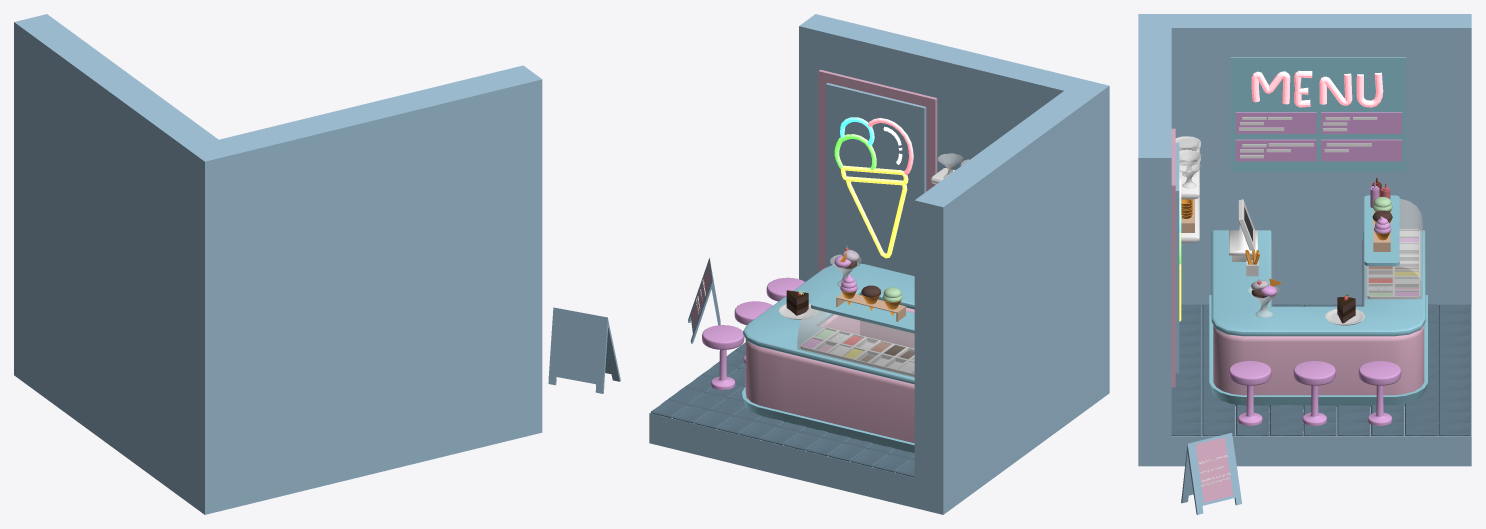
File: asset.gltf
The picture shows the model from 3 angles, left to right: view 1: azimuth 30°, elevation 25°; view 2: azimuth 150°, elevation 25°; view 3: azimuth 270°, elevation 25°; orthographic projection. The views are drawn at different scales.
Visible parts, largest first — view 1: Cube, Plane.002; view 2: Cube, Plane, Cube.010, Cube.001, Cube.002, Cube.004, Vert, Cube.003, Circle.002, Plane.002, Circle.003, Circle.001 (+3 smaller); view 3: Cube, Plane, Vert.001, Cube.001, Plane.002, Cube.002, Cube.004, Cube.010, Cube.003, Circle.002, Circle.001, Circle (+6 smaller).
Boxes of the visible parts, left/top/right/bottom form: Cube: left=14, top=14, right=542, bottom=514; Plane.002: left=548, top=307, right=620, bottom=393; Cube: left=649, top=14, right=1109, bottom=514; Plane: left=742, top=263, right=914, bottom=452; Cube.010: left=818, top=69, right=937, bottom=275; Cube.001: left=651, top=342, right=914, bottom=477; Cube.002: left=797, top=306, right=914, bottom=377; Cube.004: left=800, top=327, right=914, bottom=376; Vert: left=834, top=117, right=913, bottom=258; Cube.003: left=811, top=292, right=914, bottom=333; Circle.002: left=702, top=325, right=744, bottom=390; Plane.002: left=688, top=258, right=720, bottom=343; Circle.003: left=779, top=290, right=817, bottom=319; Circle.001: left=734, top=301, right=772, bottom=363; Cube: left=1138, top=14, right=1471, bottom=466; Plane: left=1209, top=230, right=1427, bottom=406; Vert.001: left=1230, top=57, right=1406, bottom=171; Cube.001: left=1171, top=304, right=1471, bottom=435; Plane.002: left=1181, top=433, right=1241, bottom=514; Cube.002: left=1364, top=198, right=1422, bottom=299; Cube.004: left=1367, top=229, right=1420, bottom=299; Cube.010: left=1171, top=128, right=1179, bottom=387; Cube.003: left=1364, top=195, right=1399, bottom=266; Circle.002: left=1358, top=361, right=1401, bottom=425; Circle.001: left=1293, top=361, right=1335, bottom=425; Circle: left=1229, top=361, right=1271, bottom=425.
Size of the model in its own units: 6.53 by 4.93 by 4.8.
